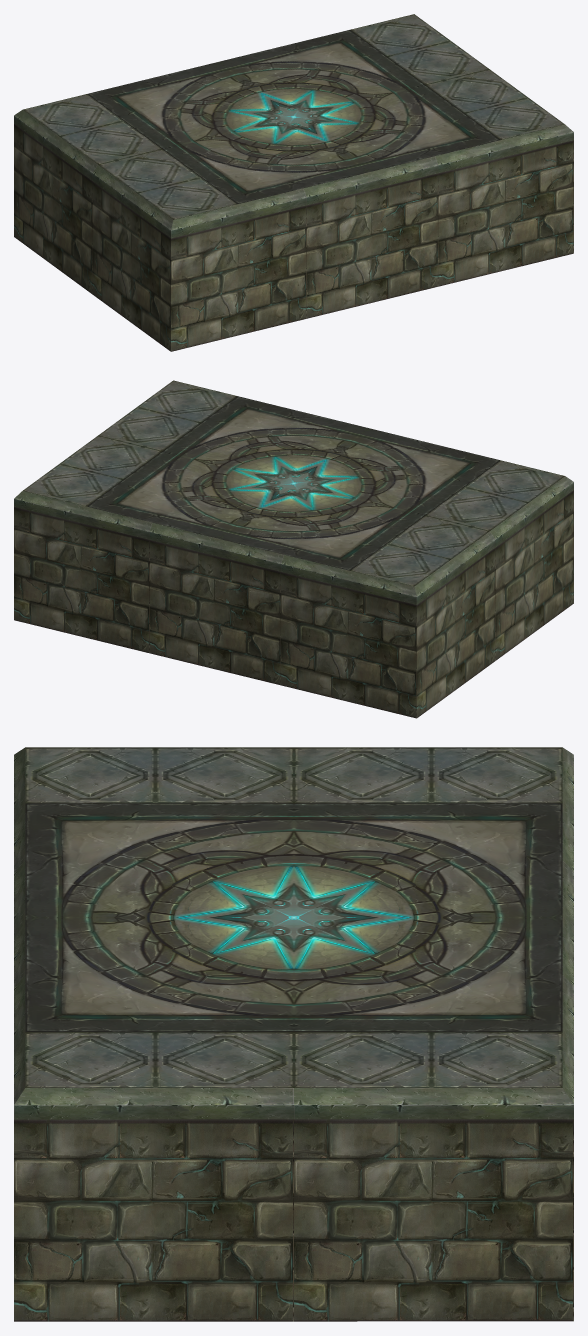
The model's file is F_wujian010.fbx.
3 views of the same model, one above another, from view 1: azimuth 30°, elevation 25°; view 2: azimuth 150°, elevation 25°; view 3: azimuth 270°, elevation 25° (orthographic). The views are drawn at different scales.
Visible parts, largest first — view 1: F_wujian010; view 2: F_wujian010; view 3: F_wujian010.
Part boxes in pixels (bbox=[...]): F_wujian010: bbox=[14, 14, 573, 351]; F_wujian010: bbox=[14, 380, 573, 718]; F_wujian010: bbox=[14, 747, 573, 1321].
Bounding box in the file's own units: 1235 × 375 × 834.
